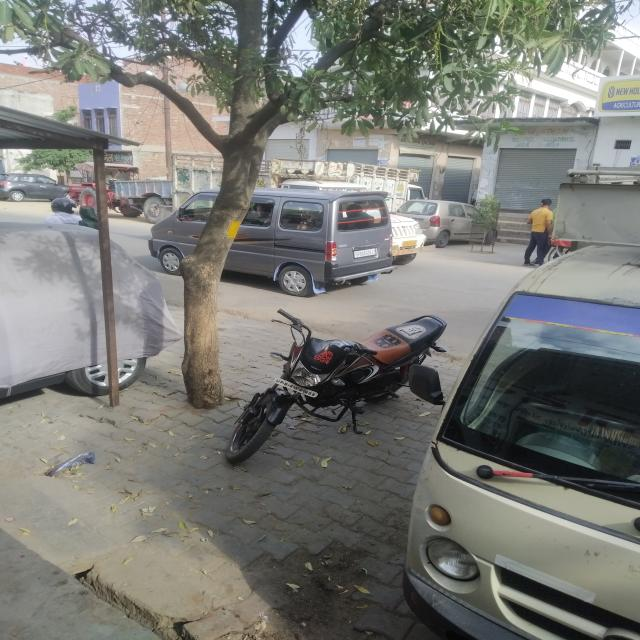Car: (398, 200, 477, 248), (485, 230, 493, 242)
Two Wheeler: (227, 310, 447, 462)
